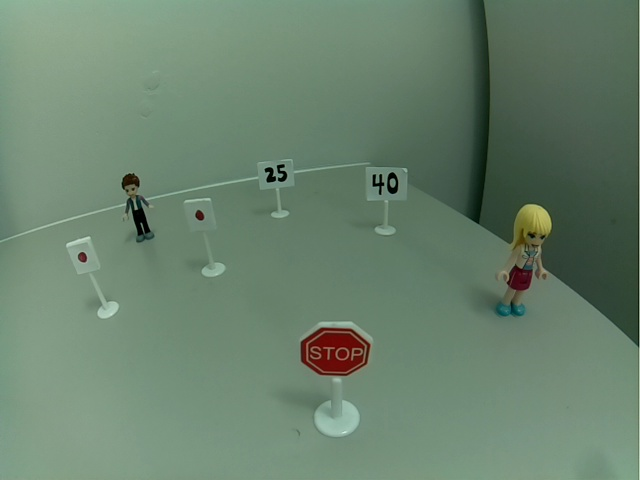people: (493, 201, 553, 319), (118, 172, 158, 245)
red light: (63, 234, 102, 278), (183, 196, 217, 236)
speed 25: (255, 158, 296, 190)
speed 40: (363, 165, 410, 202)
stop: (297, 318, 374, 380)
